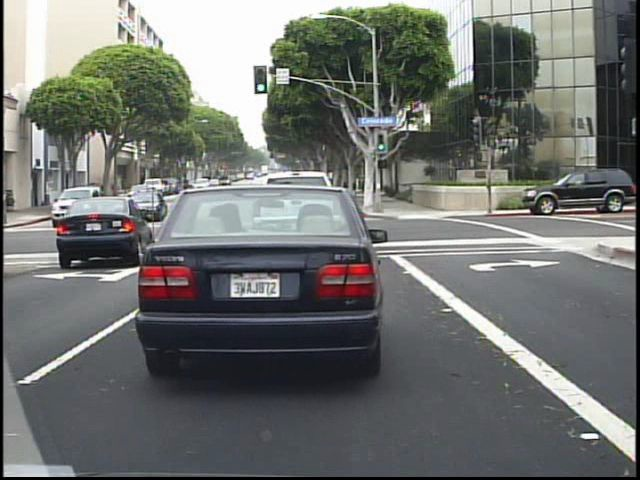person: (81, 181, 98, 216)
